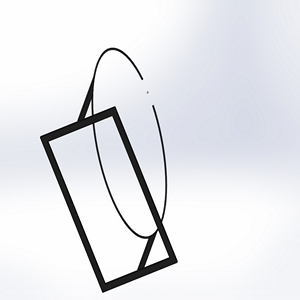circle: (39, 44, 179, 293)
